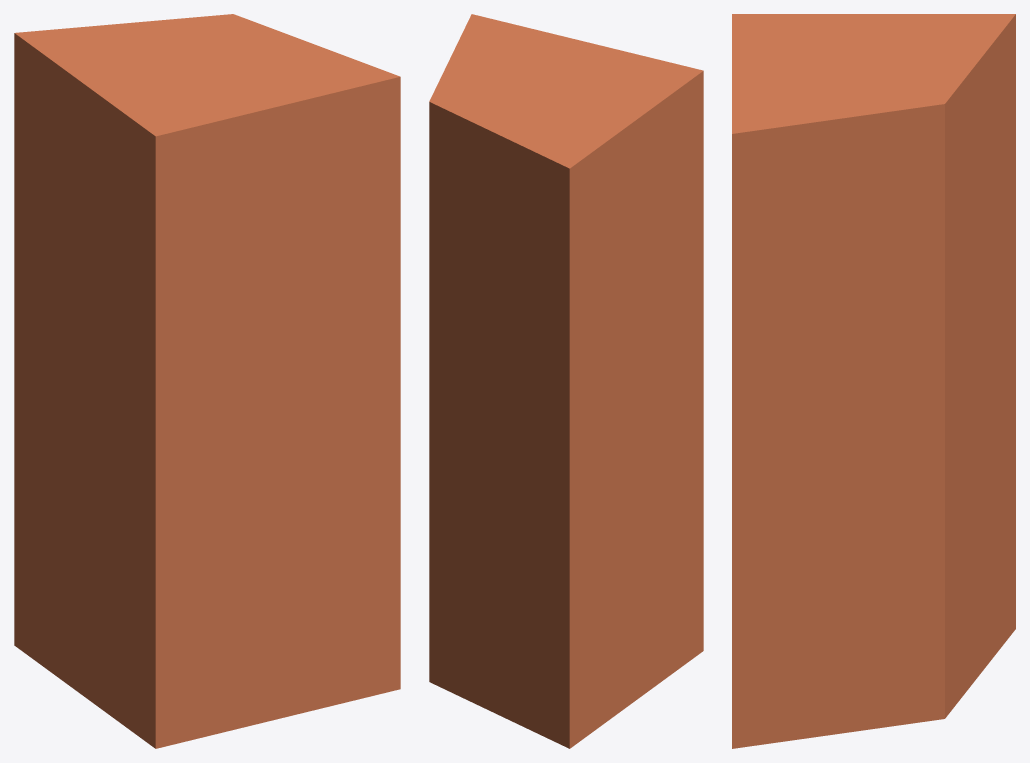
Rendered from cliff_cornerLarge_rock.glb.
The picture shows the model from 3 angles, left to right: view 1: azimuth 30°, elevation 25°; view 2: azimuth 150°, elevation 25°; view 3: azimuth 270°, elevation 25°; orthographic projection. The views are drawn at different scales.
Parts seen in each view (by area): view 1: cliff_cornerLarge_rock; view 2: cliff_cornerLarge_rock; view 3: cliff_cornerLarge_rock.
Boxes of the visible parts, box(x1,y1,x2,y2) form: cliff_cornerLarge_rock: box(14, 14, 400, 748); cliff_cornerLarge_rock: box(429, 14, 703, 748); cliff_cornerLarge_rock: box(732, 14, 1015, 748).
Size of the model in its own units: 0.4185 by 1 by 0.4185.
